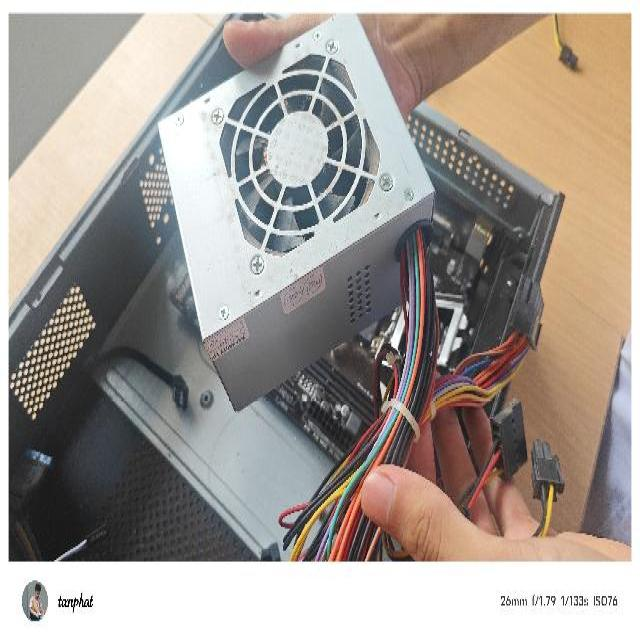PSU: (157, 14, 436, 416)
